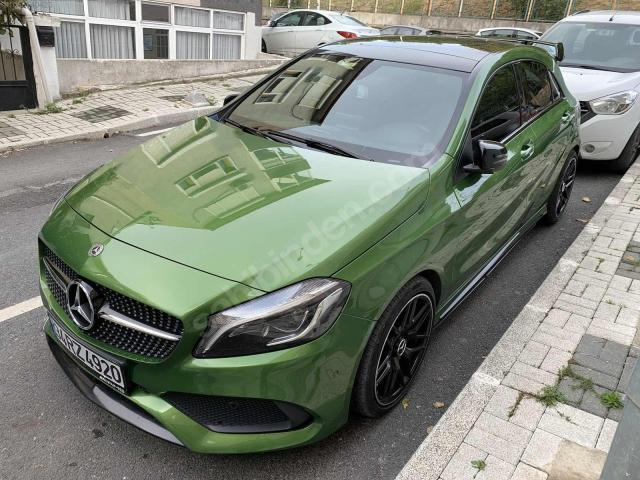plaka: (48, 311, 128, 391)
